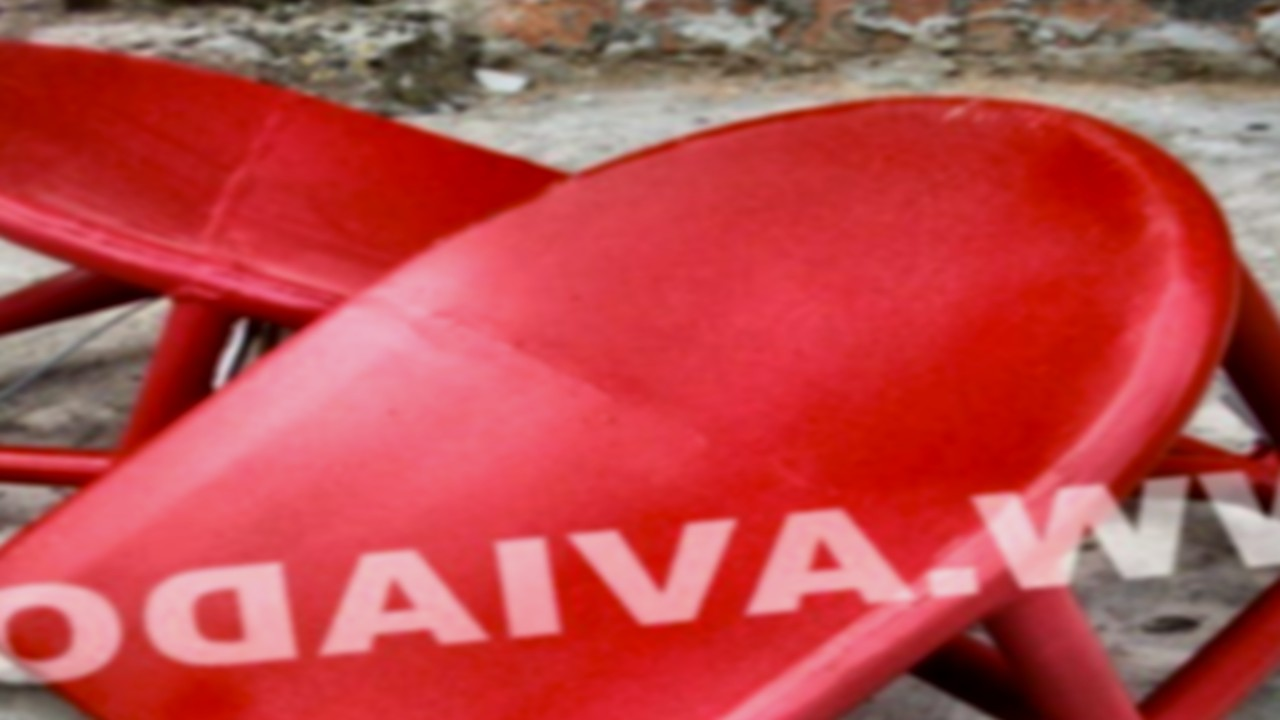chock: (0, 54, 1280, 720), (0, 0, 608, 506)
